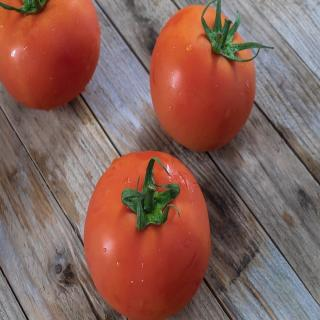Tomat: (81, 148, 215, 320), (150, 1, 275, 153), (1, 1, 104, 114)
